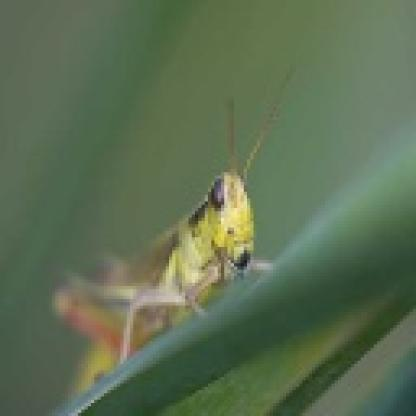grasshopper: (40, 115, 270, 358)
